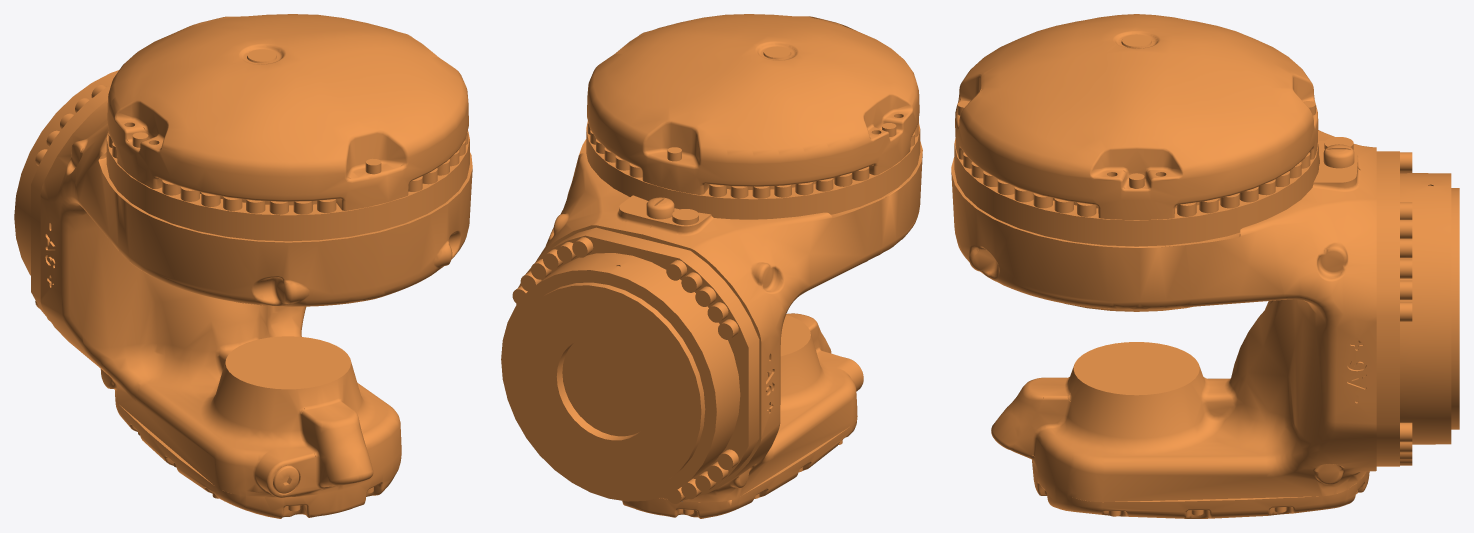
The picture shows the model from 3 angles, left to right: view 1: azimuth 30°, elevation 25°; view 2: azimuth 150°, elevation 25°; view 3: azimuth 270°, elevation 25°; orthographic projection. The views are drawn at different scales.
Parts seen in each view (by area): view 1: link_5; view 2: link_5; view 3: link_5.
Part boxes in pixels (x1,y1,x2,y2): link_5: [14, 14, 472, 518]; link_5: [501, 14, 922, 518]; link_5: [951, 14, 1459, 518].
Bounding box in the file's own units: 0.304 × 0.4171 × 0.4031.
